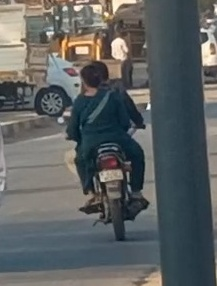BikeWithRider: (63, 59, 150, 243)
NoHelmet: (79, 65, 102, 89), (89, 60, 110, 83)
